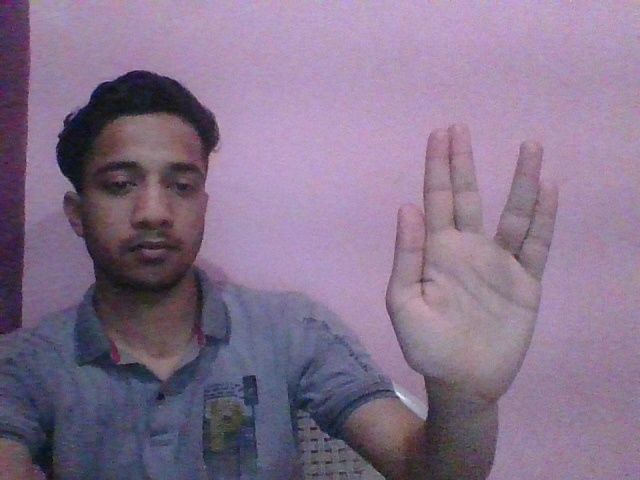livelong: (384, 119, 560, 390)
